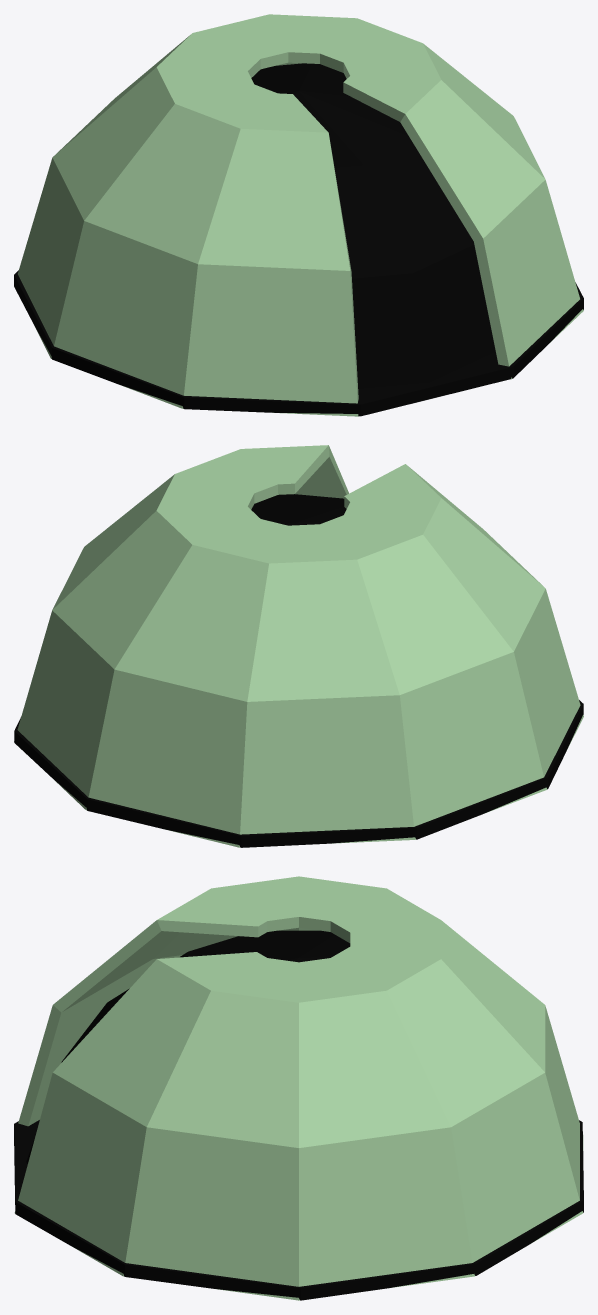
File: CanonBase.glb
The picture shows the model from 3 angles, top to bottom: view 1: azimuth 30°, elevation 25°; view 2: azimuth 150°, elevation 25°; view 3: azimuth 270°, elevation 25°; orthographic projection. The views are drawn at different scales.
Parts seen in each view (by area): view 1: CanonBase1, CanonBase2, CanonBase3; view 2: CanonBase1, CanonBase3, CanonBase2; view 3: CanonBase1, CanonBase3, CanonBase2.
Boxes of the visible parts, bbox=[...] form: CanonBase1: bbox=[17, 14, 583, 416]; CanonBase2: bbox=[251, 63, 495, 388]; CanonBase3: bbox=[14, 270, 583, 416]; CanonBase1: bbox=[14, 445, 583, 847]; CanonBase3: bbox=[14, 700, 583, 847]; CanonBase2: bbox=[251, 494, 346, 525]; CanonBase1: bbox=[14, 876, 583, 1300]; CanonBase3: bbox=[14, 1120, 583, 1300]; CanonBase2: bbox=[26, 930, 350, 1163].
Size of what is drawn, in the model's own units: 2 by 0.8765 by 1.91.
